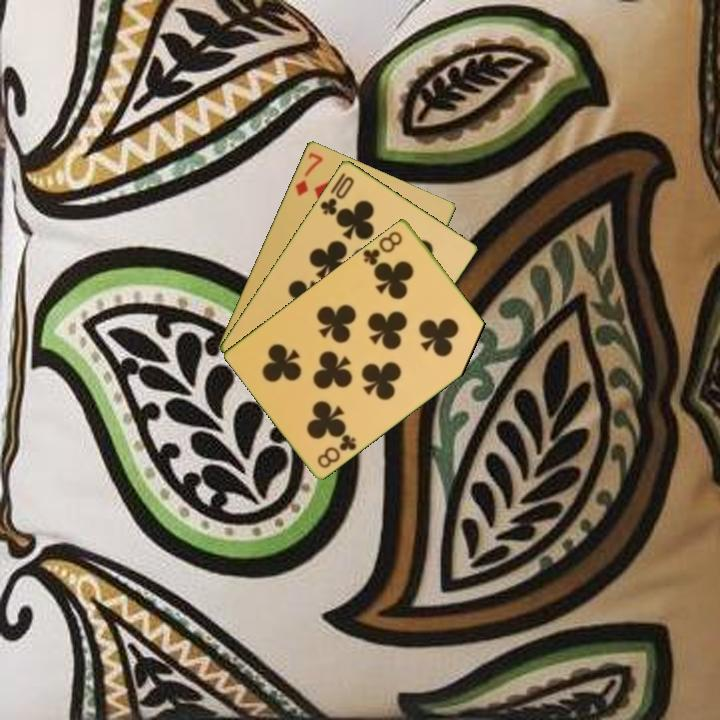10c: (316, 172, 357, 218)
7d: (291, 148, 326, 199)
8c: (359, 227, 405, 271), (314, 430, 359, 471)
